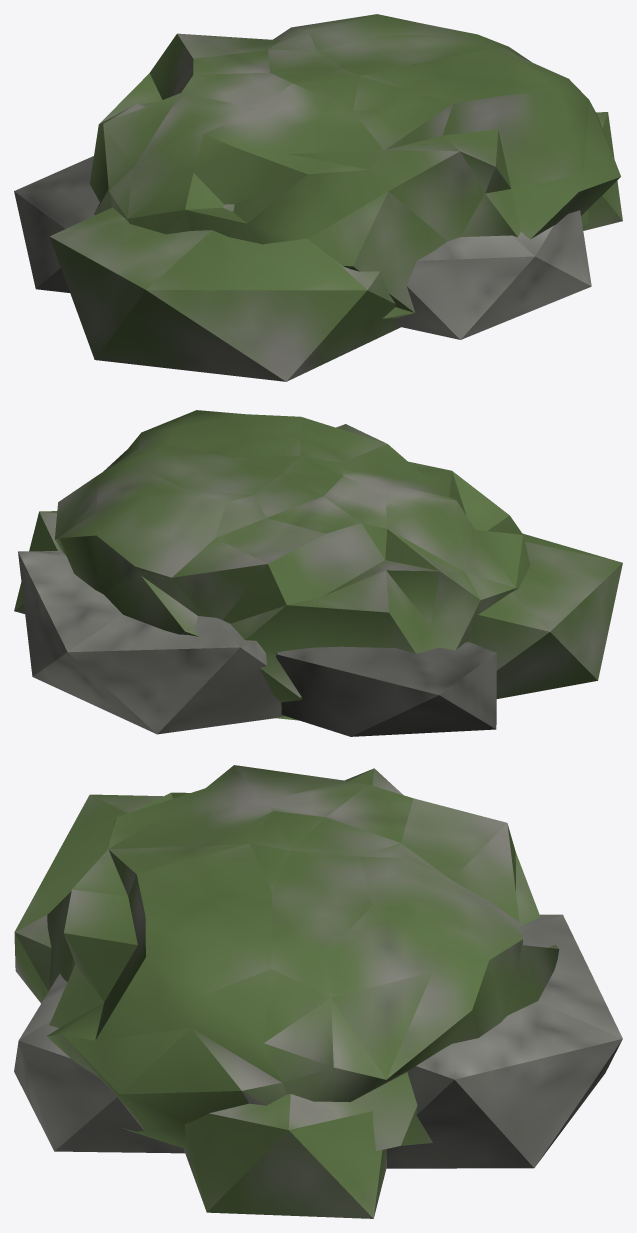
Rendered from SM_Boulder03.fbx.
3 renders of one model, top to bottom at view 1: azimuth 30°, elevation 25°; view 2: azimuth 150°, elevation 25°; view 3: azimuth 270°, elevation 25°, orthographic. The views are drawn at different scales.
Parts seen in each view (by area): view 1: SM_Boulder03; view 2: SM_Boulder03; view 3: SM_Boulder03.
Part boxes in pixels (left/top/right/bottom): SM_Boulder03: left=14, top=14, right=622, bottom=381; SM_Boulder03: left=14, top=410, right=622, bottom=736; SM_Boulder03: left=14, top=765, right=622, bottom=1218.
Bounding box in the file's own units: 6.86 × 2.25 × 5.46.
1 material, 1 textured.
